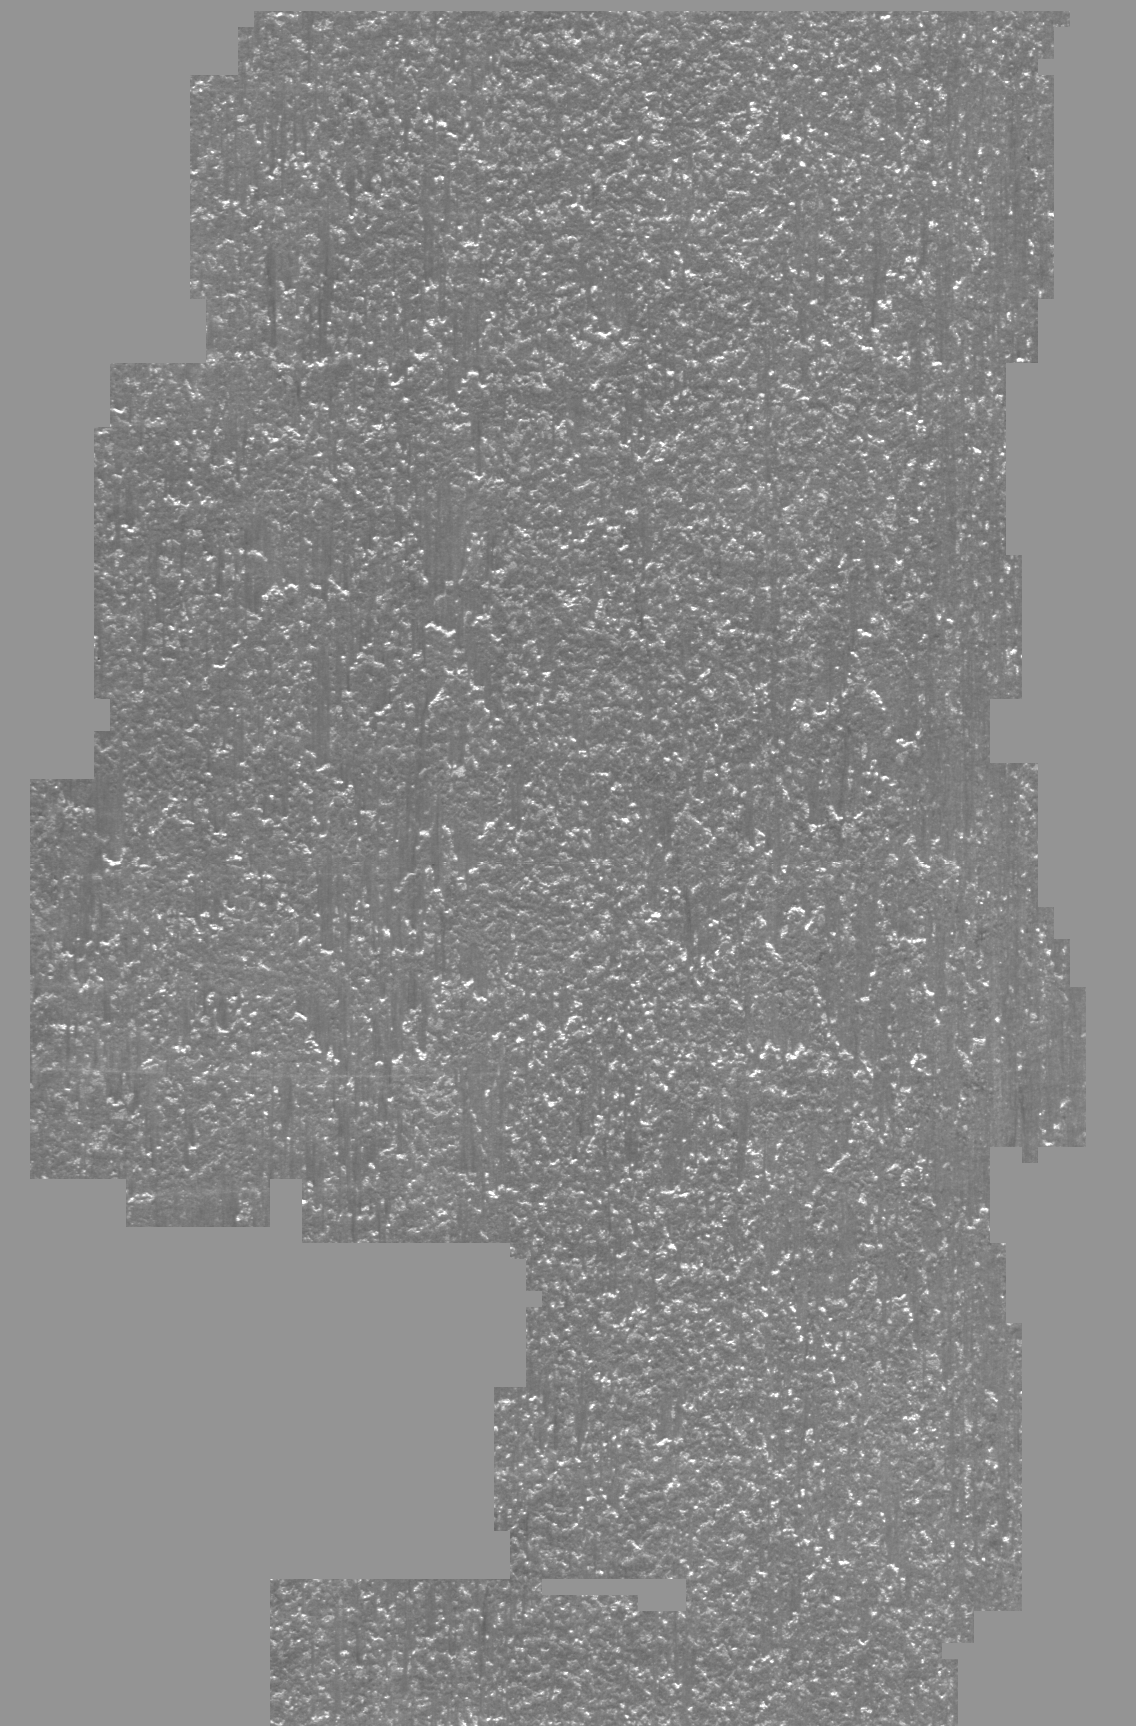oxl: (35, 10, 1100, 1716)
